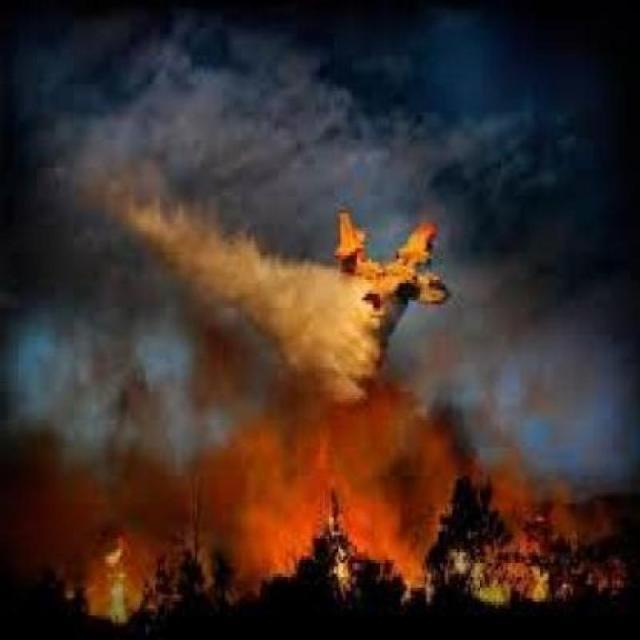Fire: (146, 434, 476, 609)
